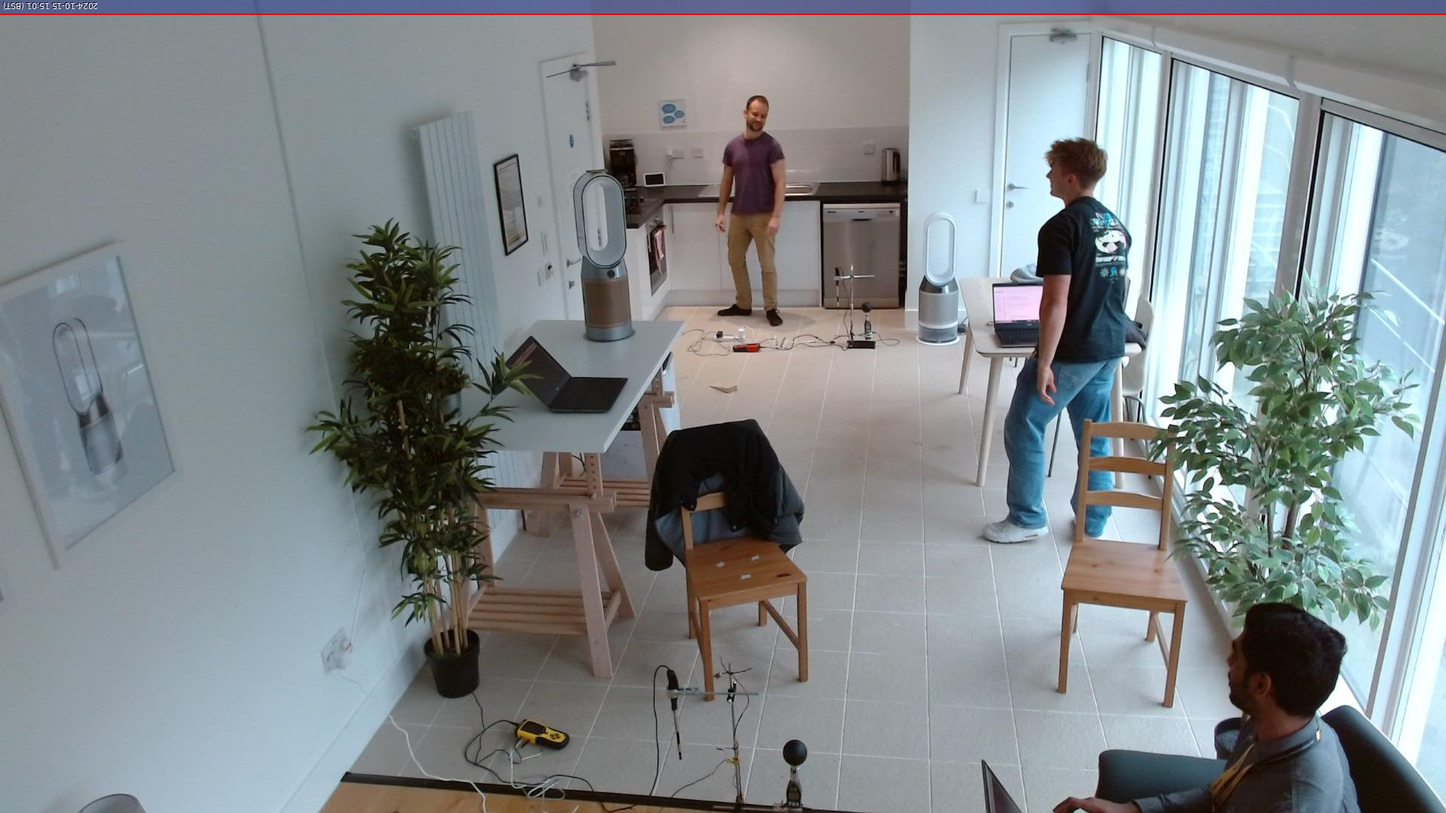long sleeve shirt: (1129, 714, 1362, 813)
short sleeve shirt: (1035, 196, 1132, 362), (721, 130, 786, 216)
trousers: (1002, 345, 1125, 524), (723, 211, 779, 311)
